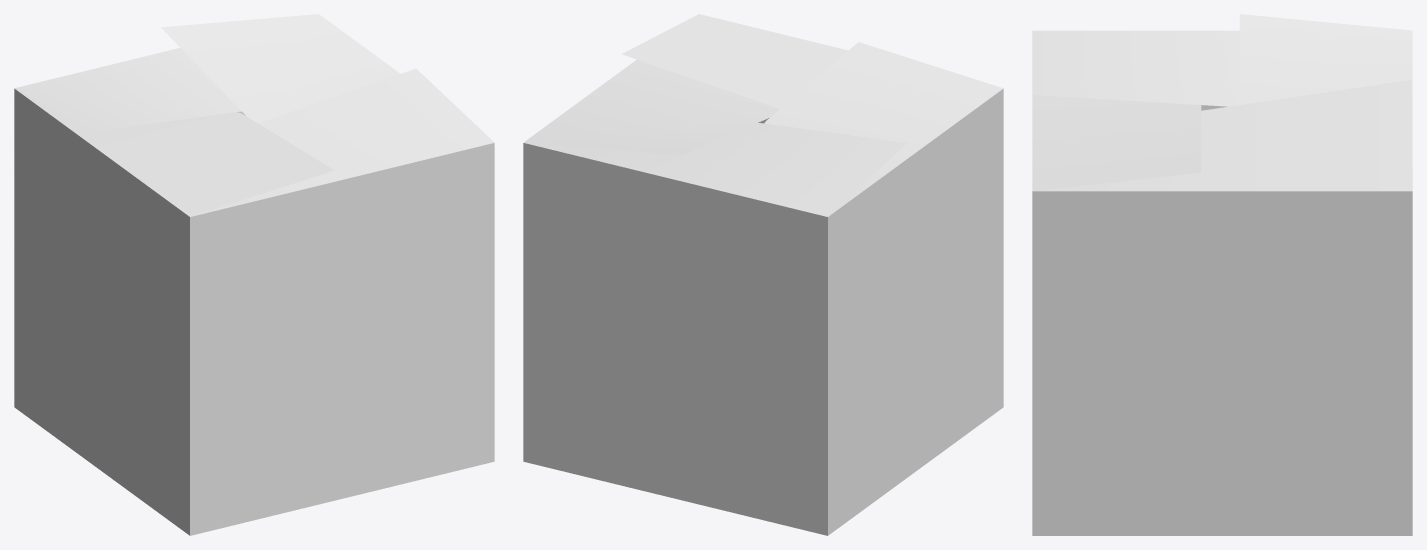
3 renders of one model, left to right at view 1: azimuth 30°, elevation 25°; view 2: azimuth 150°, elevation 25°; view 3: azimuth 270°, elevation 25°, orthographic. The views are drawn at different scales.
Visible parts, largest first — view 1: SM_Box; view 2: SM_Box; view 3: SM_Box.
Boxes of the visible parts, x1,y1,x2,y2 form: SM_Box: (14,14,494,535); SM_Box: (523,14,1003,535); SM_Box: (1032,14,1412,535).
Size of the model in its own units: 90.65 by 97.94 by 90.65.
